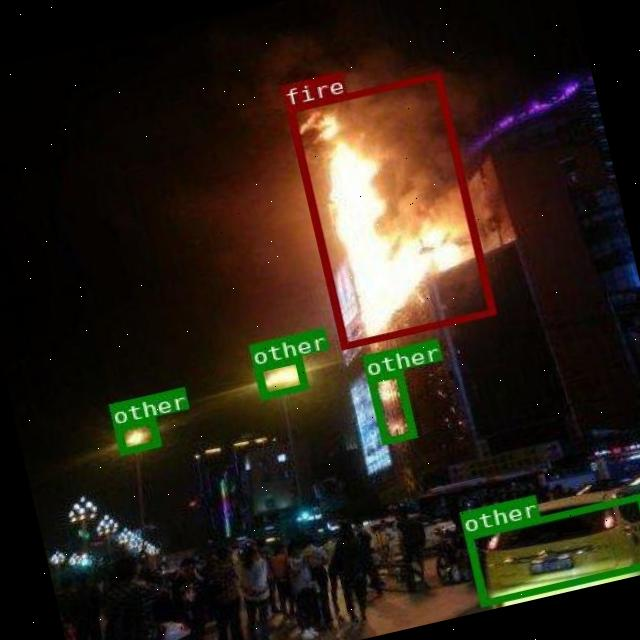fire: (285, 71, 494, 348)
